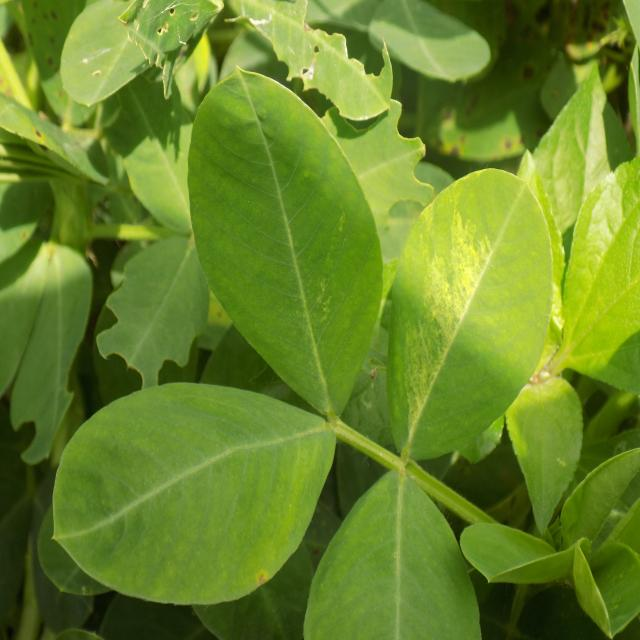Ground nut_healthy: (189, 73, 382, 417), (51, 376, 333, 604), (376, 161, 548, 457)
